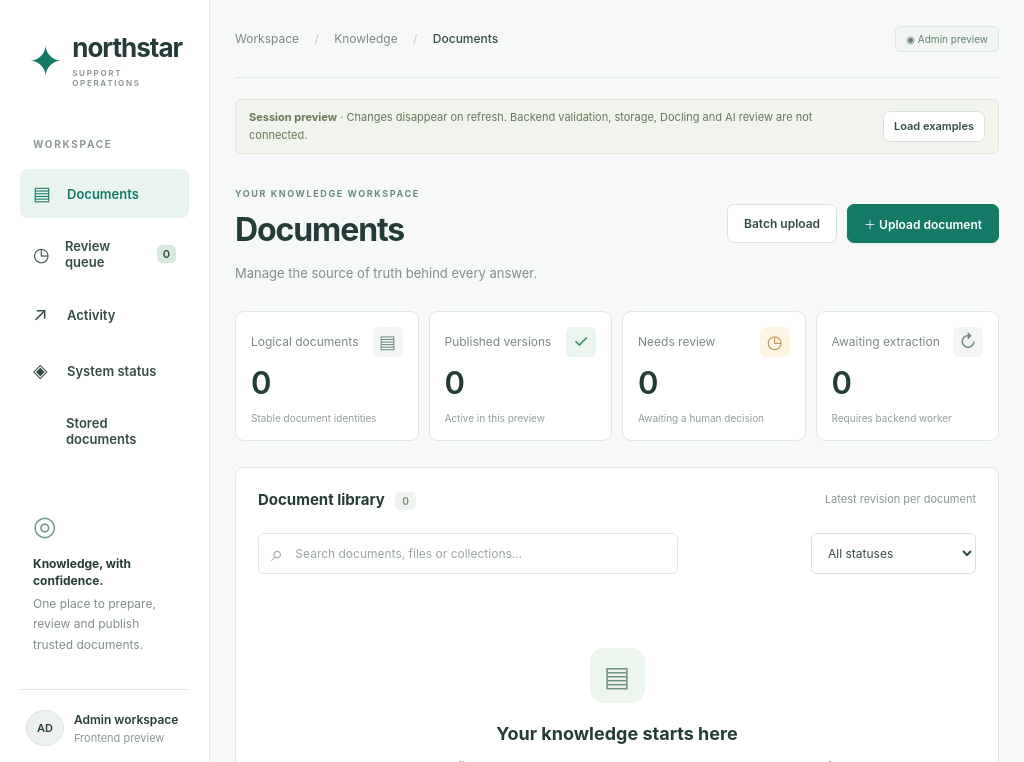
admin workspace › requires confirmation to publish, and shows separate document and version identities
The width and height of the screenshot is (1024, 762).
Click the button "Load examples" at x=934, y=127, box [883, 111, 985, 142]
(page scrolled)
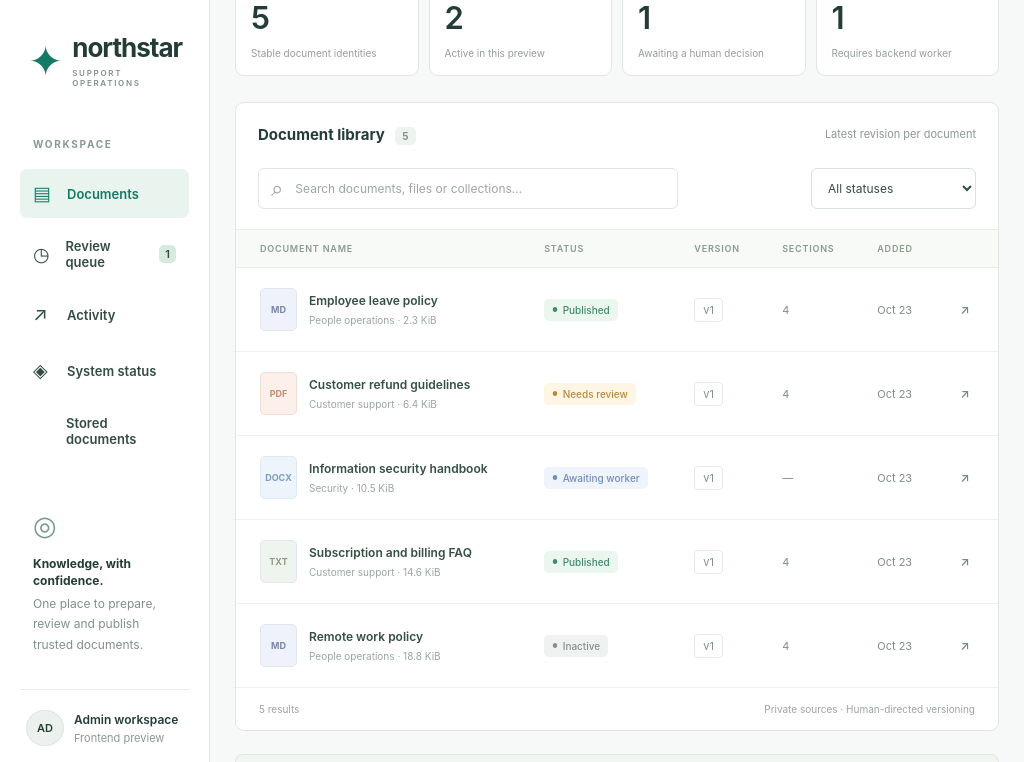
Click the button "Customer refund guidelines" at x=390, y=385, box [309, 377, 470, 392]
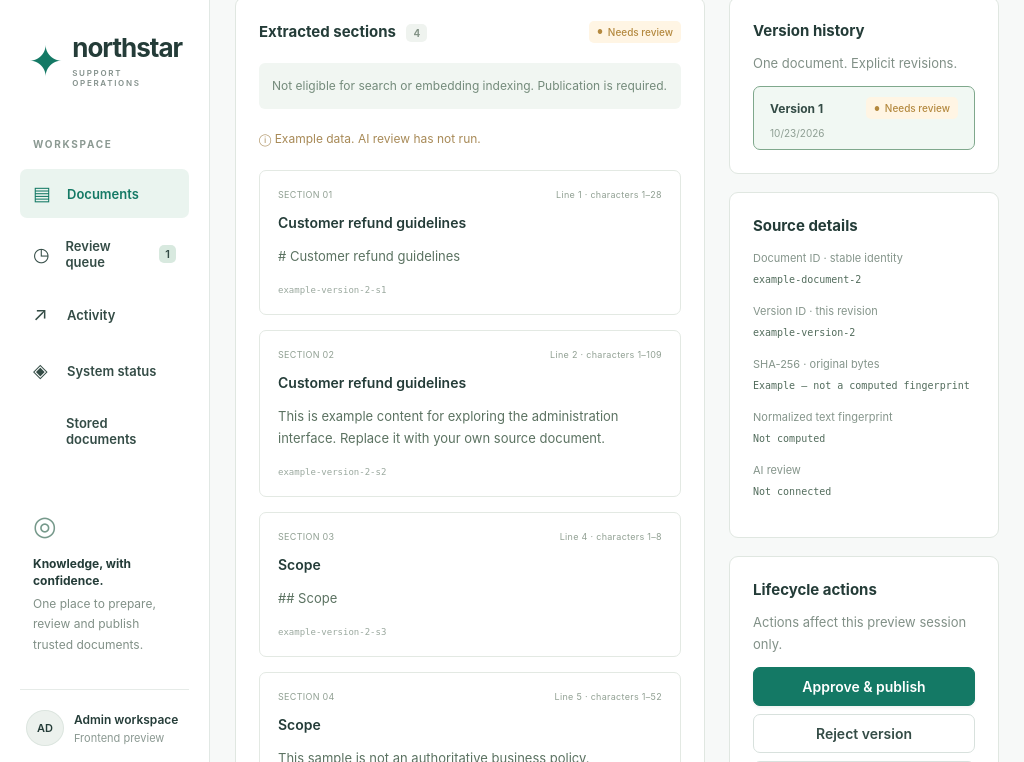
Now the text "example-document-2" is shown, box [753, 274, 861, 285]
Now the text "example-version-2" is shown, box [753, 327, 855, 338]
Click the button "Approve & publish" at x=864, y=687, box [753, 667, 975, 706]
(page scrolled)
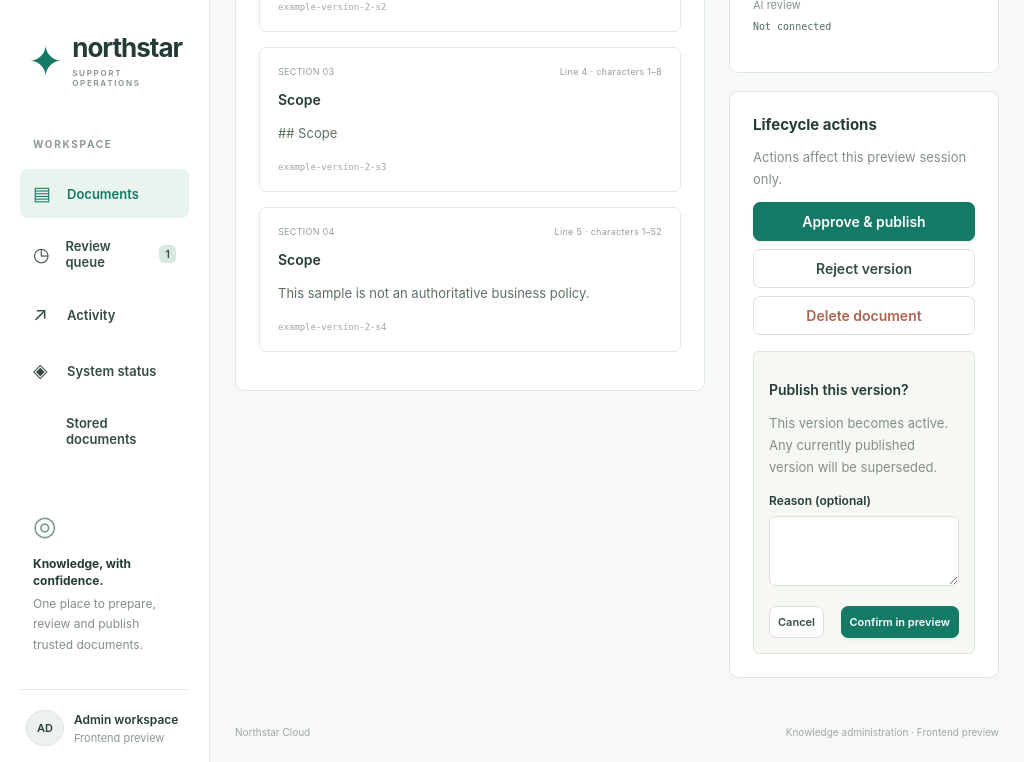
Expected: the button "Deactivate version" is not shown
Click the button "Confirm in preview" at x=900, y=622, box [840, 606, 959, 638]
(page scrolled)
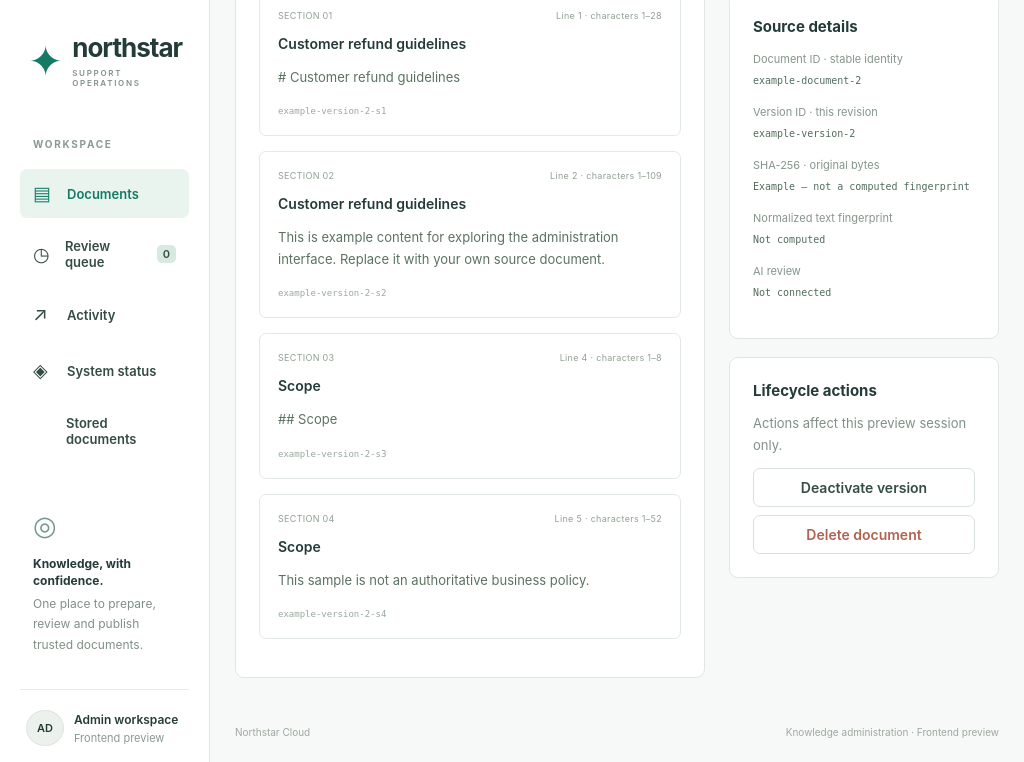
Now the button "Deactivate version" is shown, box [753, 468, 975, 507]
